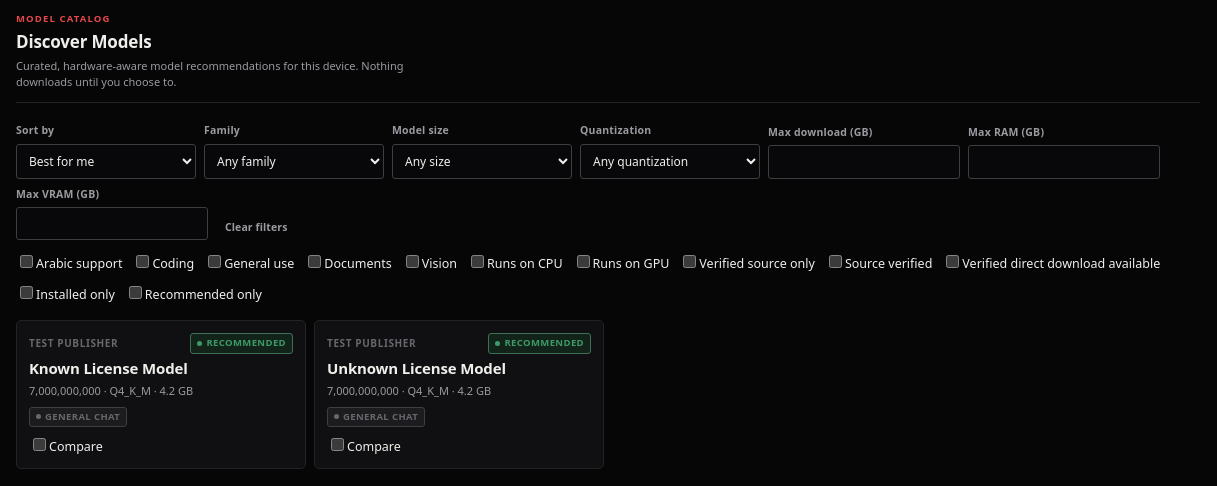
Test: Discover page — model card navigation safety › the 'verified source only' filter actually excludes unknown-license models
Expected: the text "Known License Model" is shown, [29,358,188,378]
Expected: the text "Unknown License Model" is shown, [327,358,506,378]
Click the text "Verified source only".
click(747, 263)  # box [679,252,815,273]
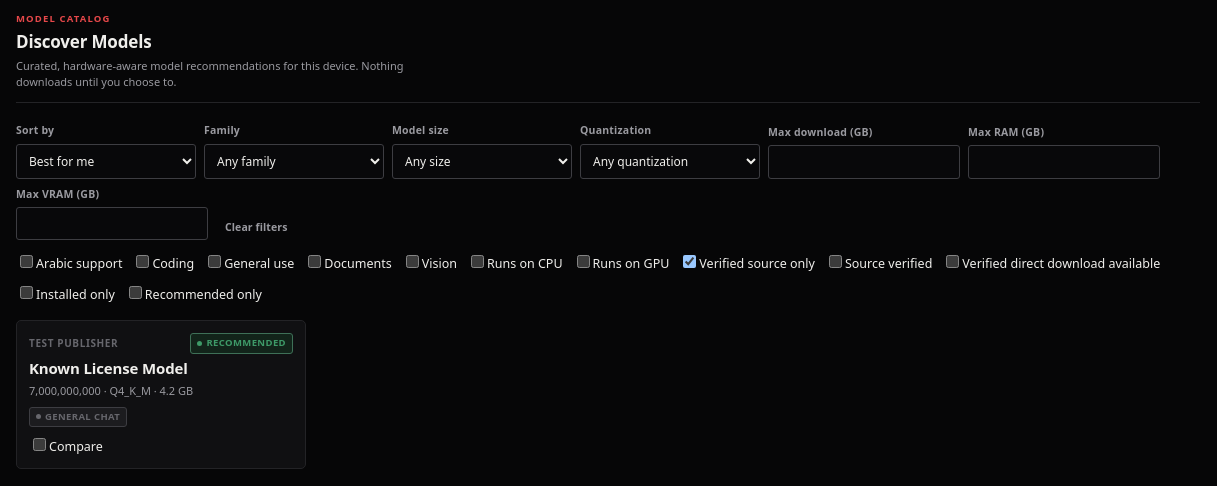
Expected: the text "Known License Model" is shown, [29,358,188,378]
Expected: the button "Unknown License Model" is gone
